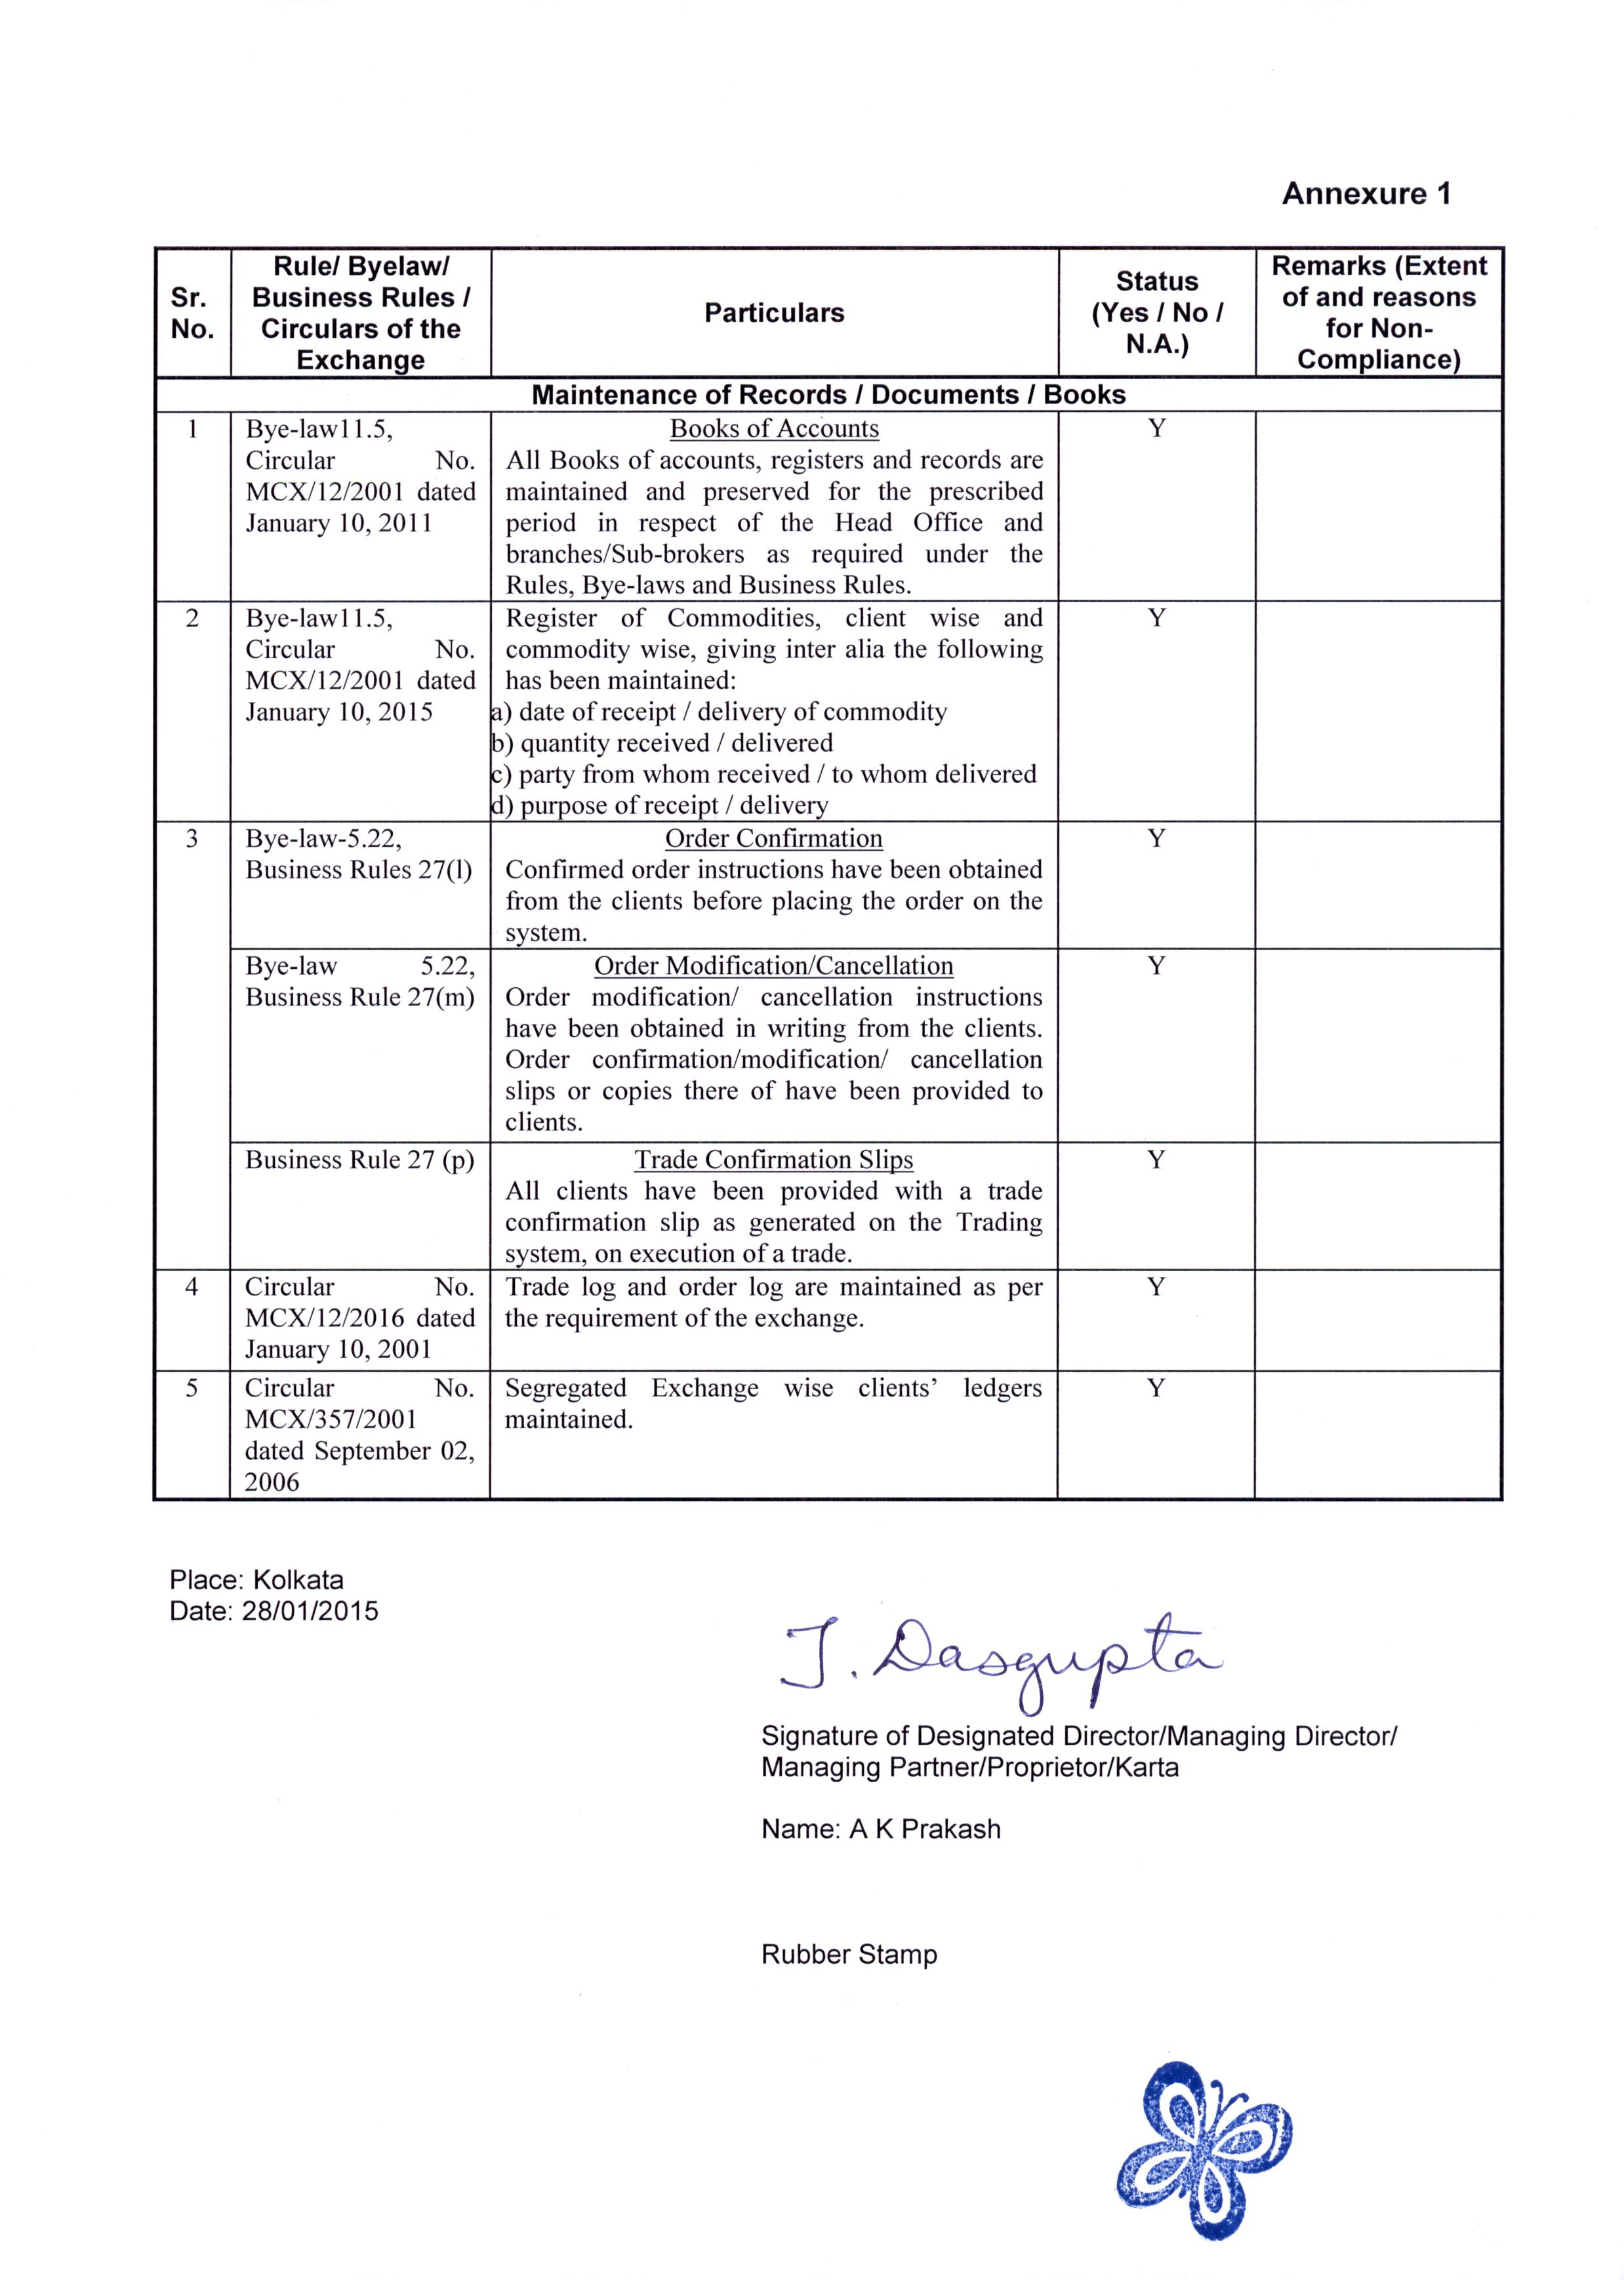Signature: (765, 1607, 1223, 1719)
